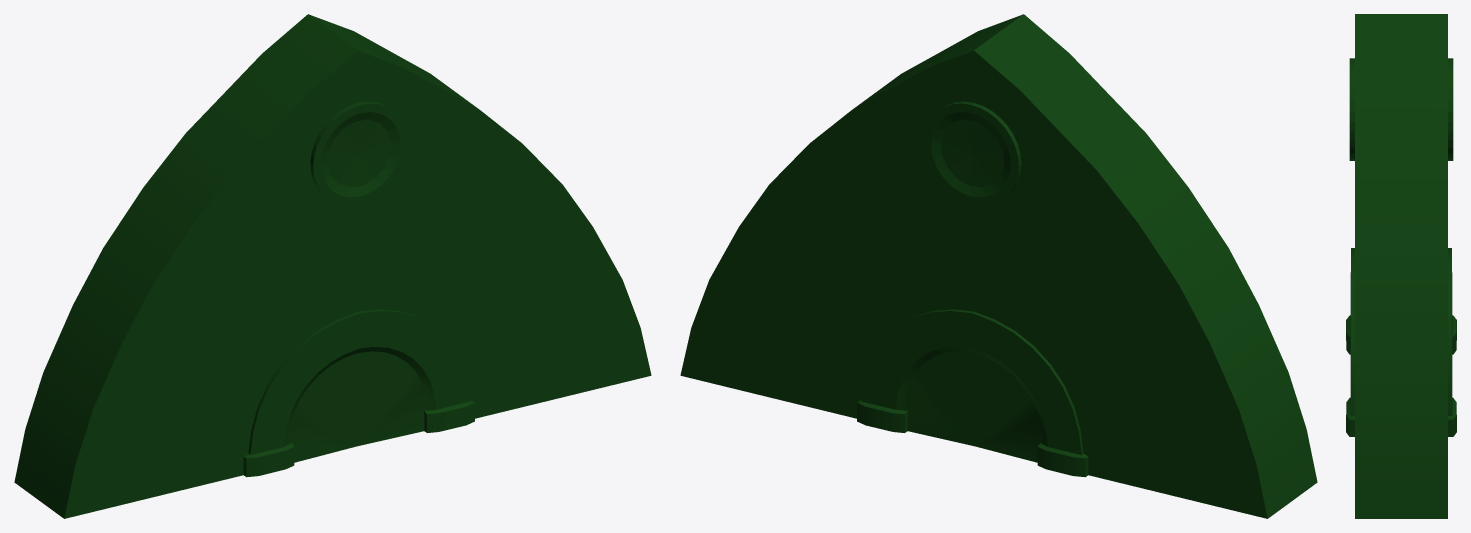
File: SM_gatetop.fbx
The picture shows the model from 3 angles, left to right: view 1: azimuth 30°, elevation 25°; view 2: azimuth 150°, elevation 25°; view 3: azimuth 270°, elevation 25°; orthographic projection. The views are drawn at different scales.
Visible parts, largest first — view 1: doorcover_low.001; view 2: doorcover_low.001; view 3: doorcover_low.001.
Part boxes in pixels (x1,y1,x2,y2): doorcover_low.001: [14, 14, 651, 518]; doorcover_low.001: [680, 14, 1317, 518]; doorcover_low.001: [1346, 14, 1456, 518].
Bounding box in the file's own units: 697 × 450 × 122.
